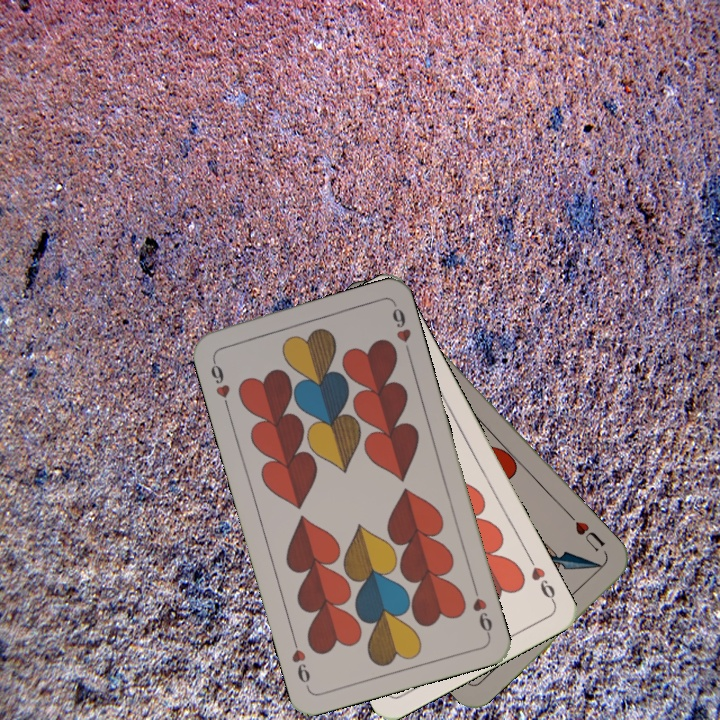H9: (524, 552, 558, 606), (468, 581, 495, 639), (206, 354, 233, 412)
HU: (565, 511, 608, 555)
